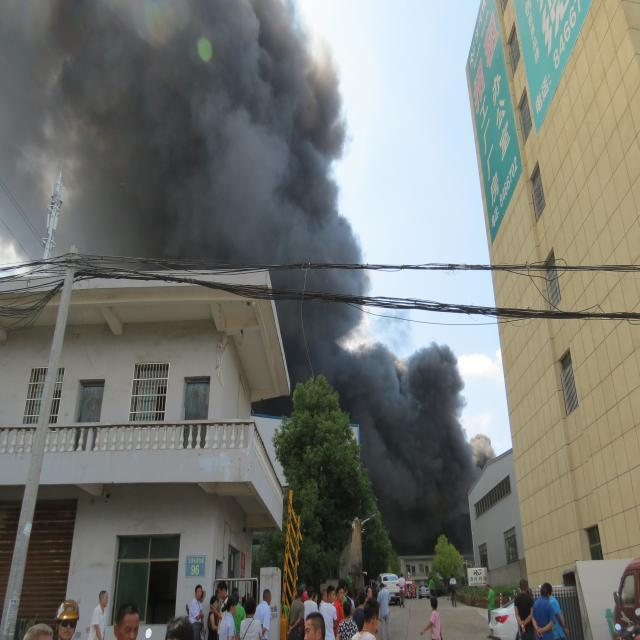Smoke: (200, 117, 290, 261), (368, 348, 432, 516), (65, 19, 154, 132), (403, 346, 461, 428)
